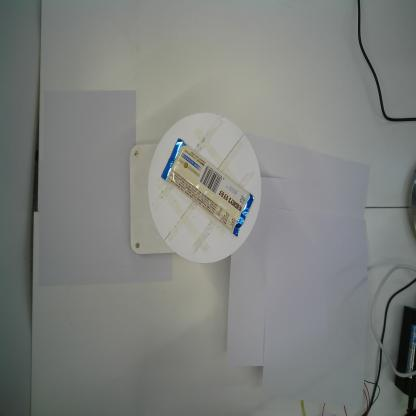Chocolate: (160, 136, 255, 239)
